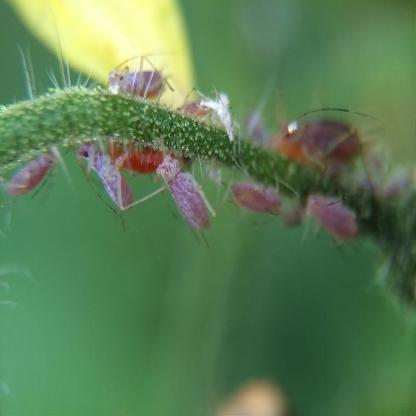aphid: (158, 149, 230, 239), (72, 135, 139, 222), (275, 103, 365, 163), (230, 146, 293, 216), (299, 183, 368, 242), (0, 136, 56, 203), (106, 52, 170, 104), (176, 89, 233, 129)
